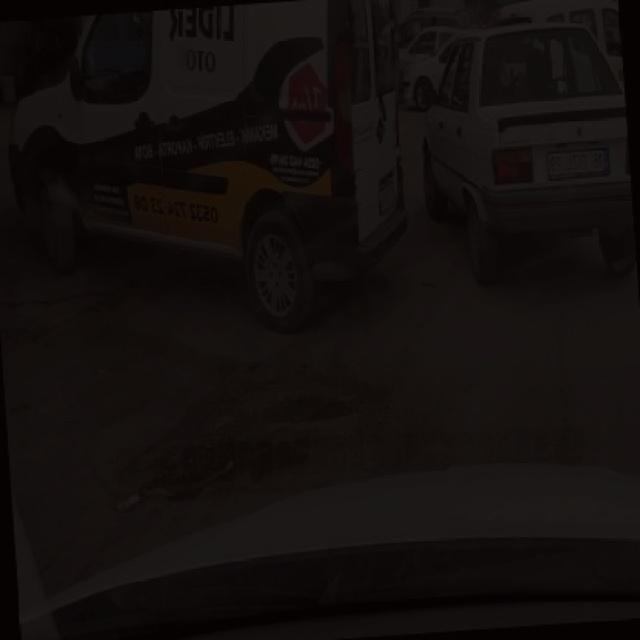Pothole: (132, 427, 322, 507), (254, 381, 374, 441)
